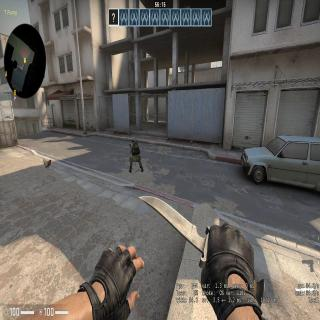CT-Body: (130, 136, 142, 168)
CT-Head: (132, 137, 136, 143)
